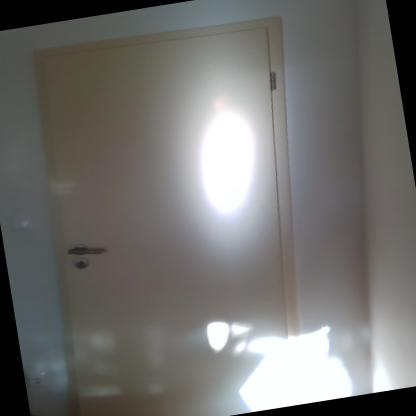closed: (14, 7, 355, 415)
